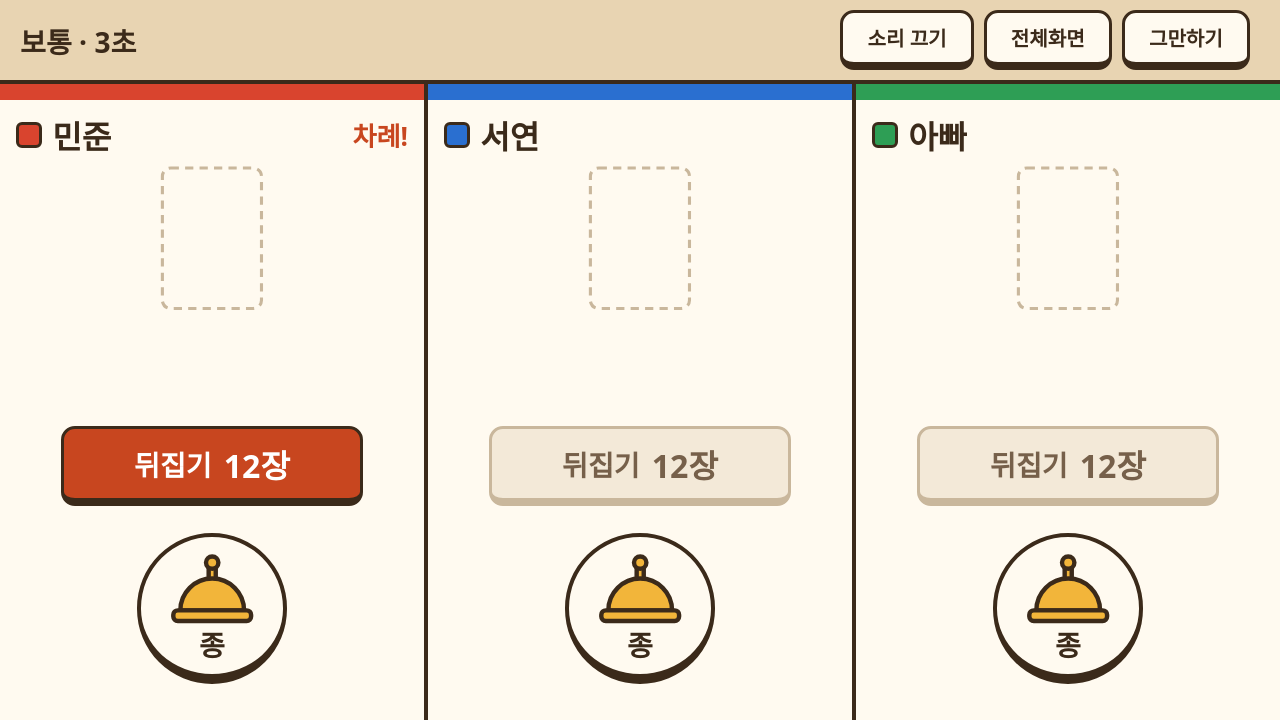
Test: BellMatch › 손으로 먼저 뒤집으면 다음 사람 시간을 처음부터 잰다
Press the mouse on the button "뒤집기 12장" below "민준": (212, 466) [61,426,363,506]
Wait 2950 ms
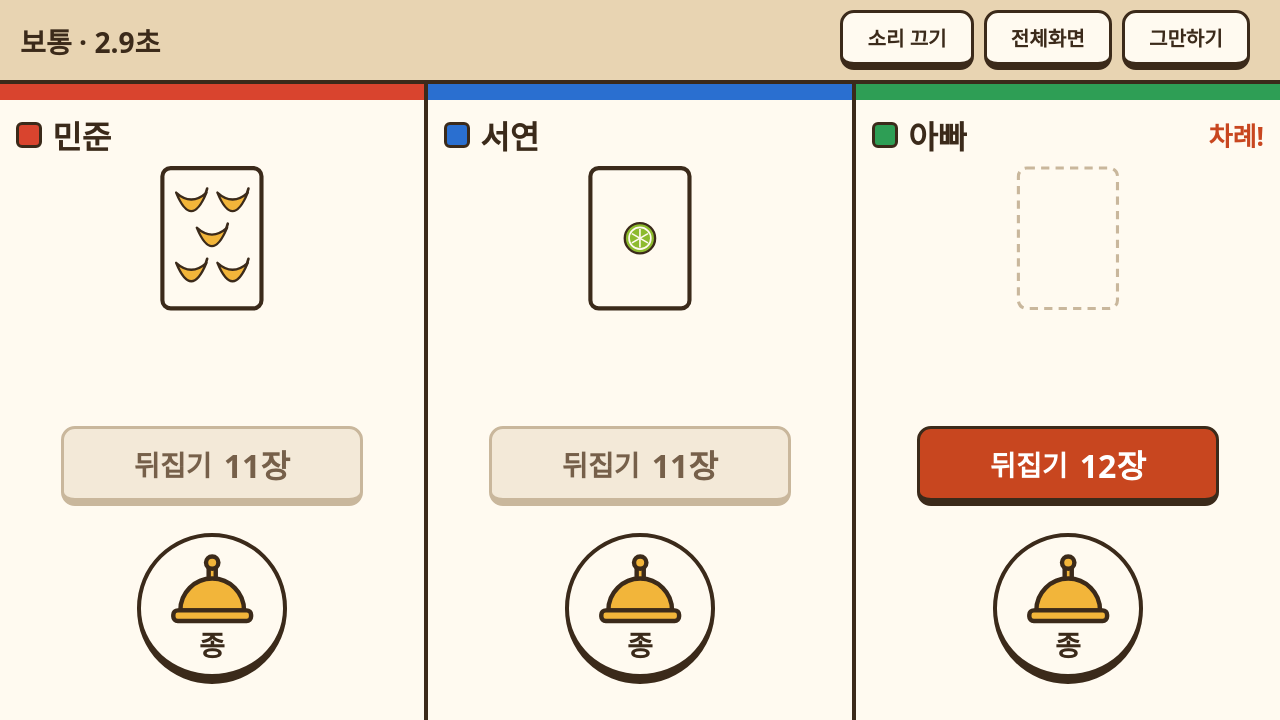
Check: the icon with test id "fruit-card" below "서연" is shown, box [444,166,836,311]
